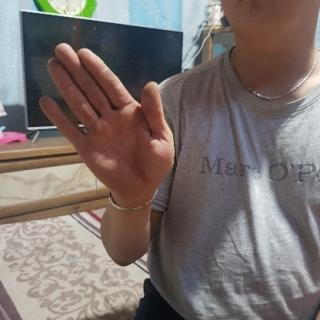SEEN: (37, 37, 179, 203)
